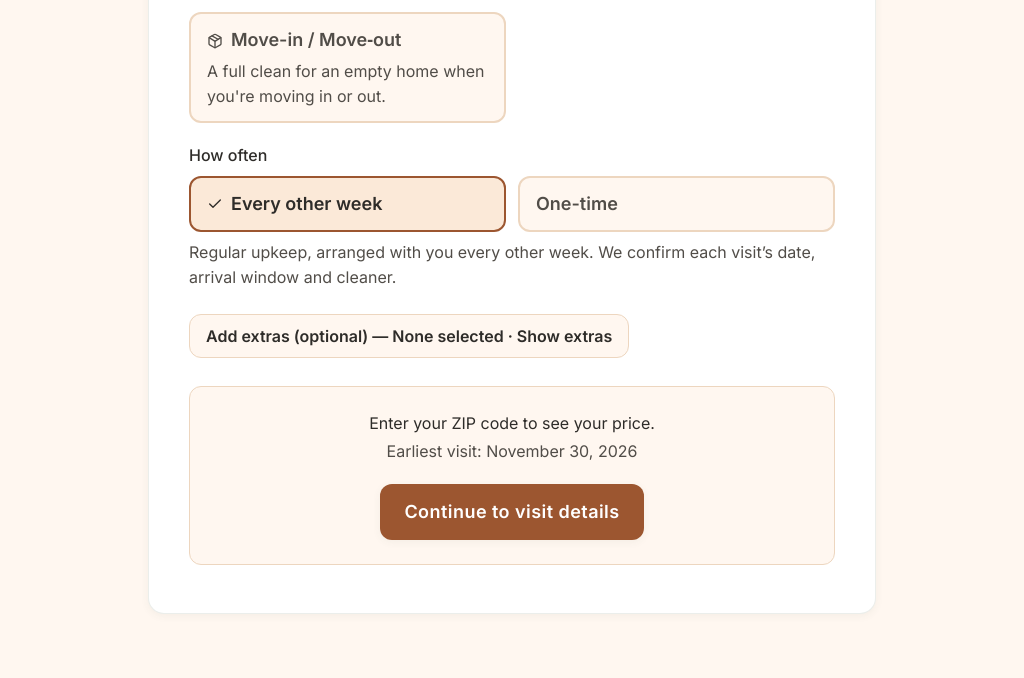
Test case: LB-37 — extras toggle has visible Show/Hide text › reads 'Show extras' closed and 'Hide extras' open
(page scrolled)
Click the button "Add extras (optional) — None selected · Show extras": [409, 336] box [189,314,629,358]
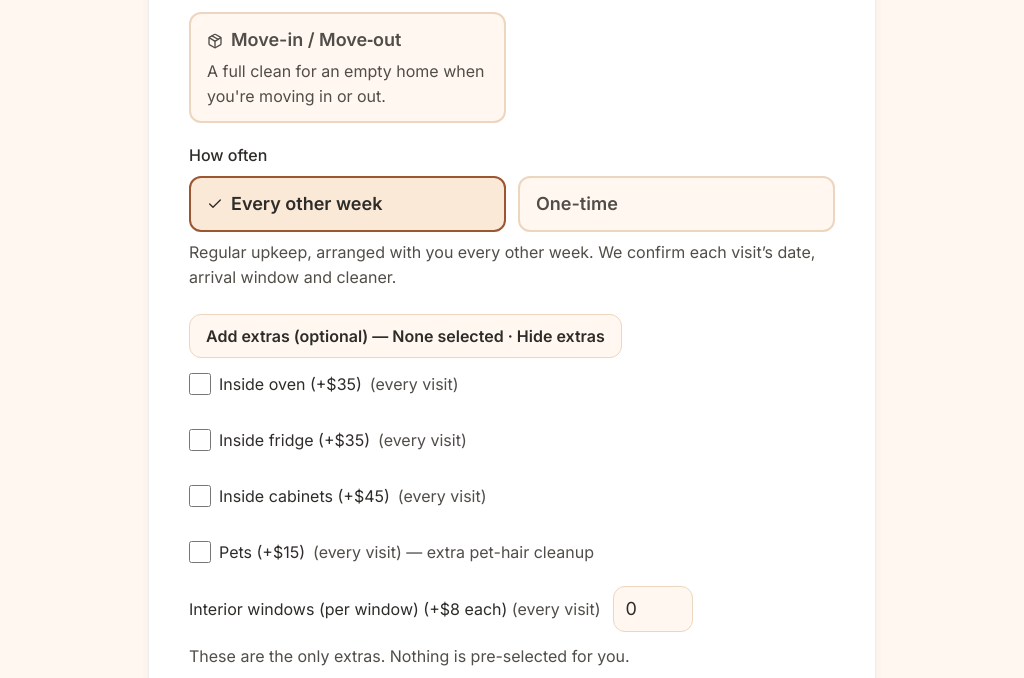
Expected: the button "Add extras (optional) — None selected · Hide extras" is expanded, [189,314,622,358]
